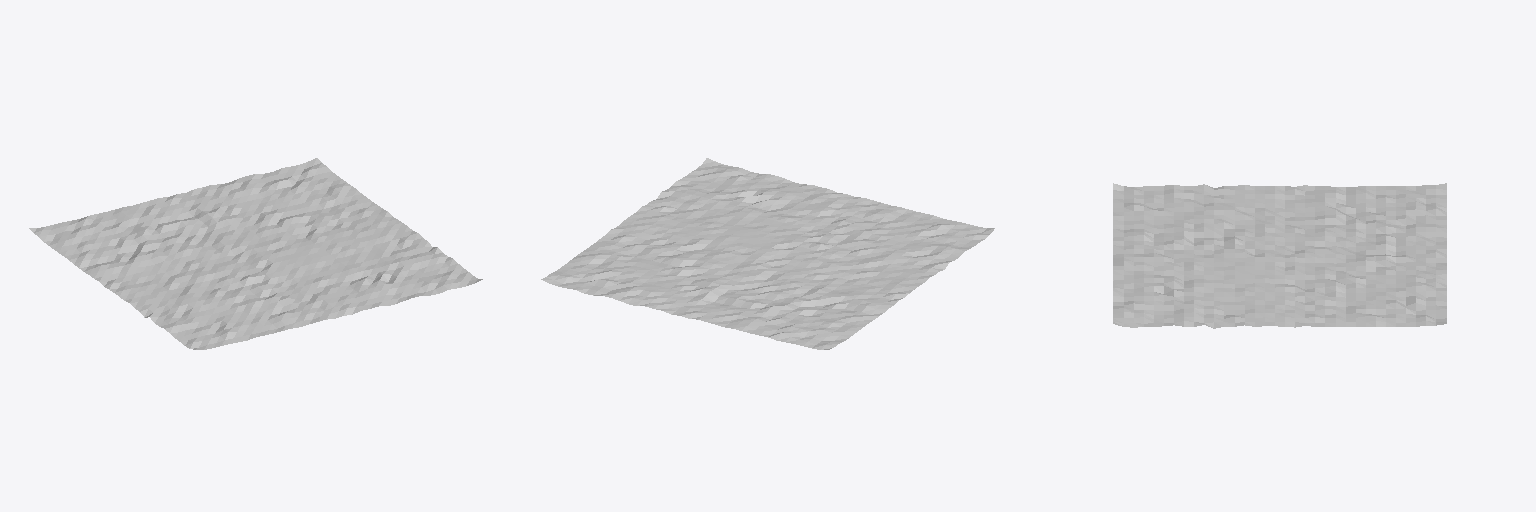
File: desert.obj
The picture shows the model from 3 angles: view 1: azimuth 30°, elevation 25°; view 2: azimuth 150°, elevation 25°; view 3: azimuth 270°, elevation 25°; orthographic projection.
Parts seen in each view (by area): view 1: Plane; view 2: Plane; view 3: Plane.
Part boxes in pixels (bbox=[...]): Plane: bbox=[29, 158, 482, 349]; Plane: bbox=[541, 158, 994, 349]; Plane: bbox=[1113, 183, 1446, 328].
Bounding box in the file's own units: 200 × 3.68 × 200.